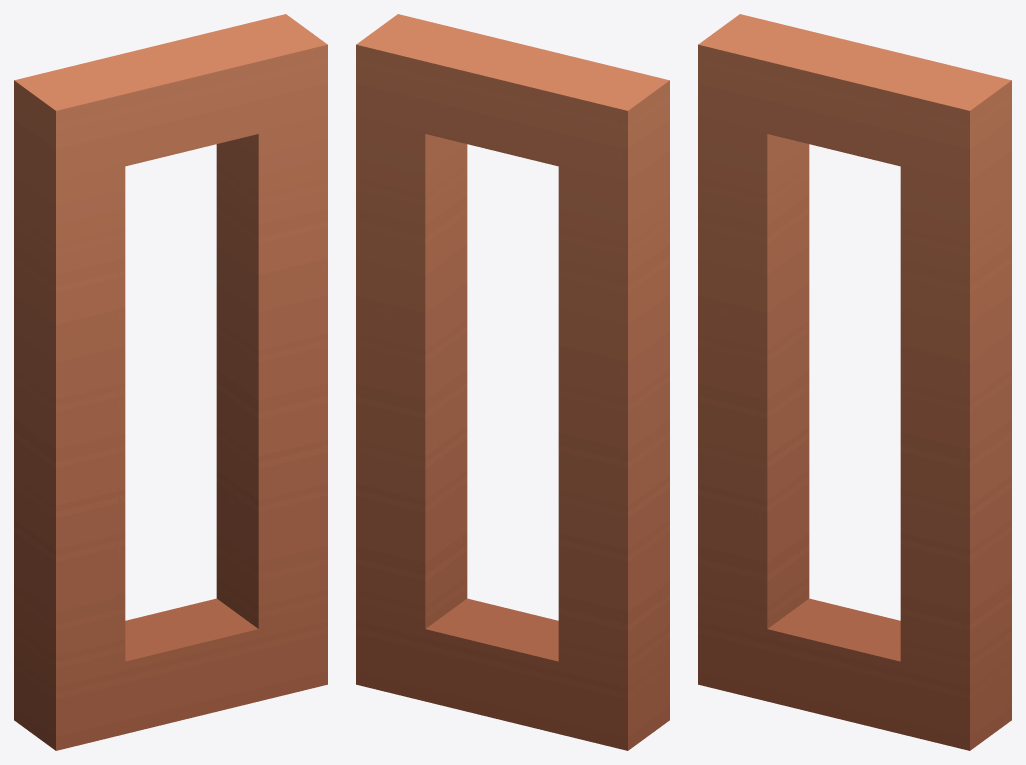
The model's file is window-brown-narrow.glb.
3 renders of one model, left to right at view 1: azimuth 30°, elevation 25°; view 2: azimuth 150°, elevation 25°; view 3: azimuth 330°, elevation 25°, orthographic.
Visible parts, largest first — view 1: window-brown-narrow; view 2: window-brown-narrow; view 3: window-brown-narrow.
Part boxes in pixels (left/top/right/bottom): window-brown-narrow: left=14, top=14, right=327, bottom=750; window-brown-narrow: left=356, top=14, right=669, bottom=750; window-brown-narrow: left=698, top=14, right=1011, bottom=750.
Bounding box in the file's own units: 0.1875 × 0.4219 × 0.05.
Materials: 1 (1 with a texture image).
